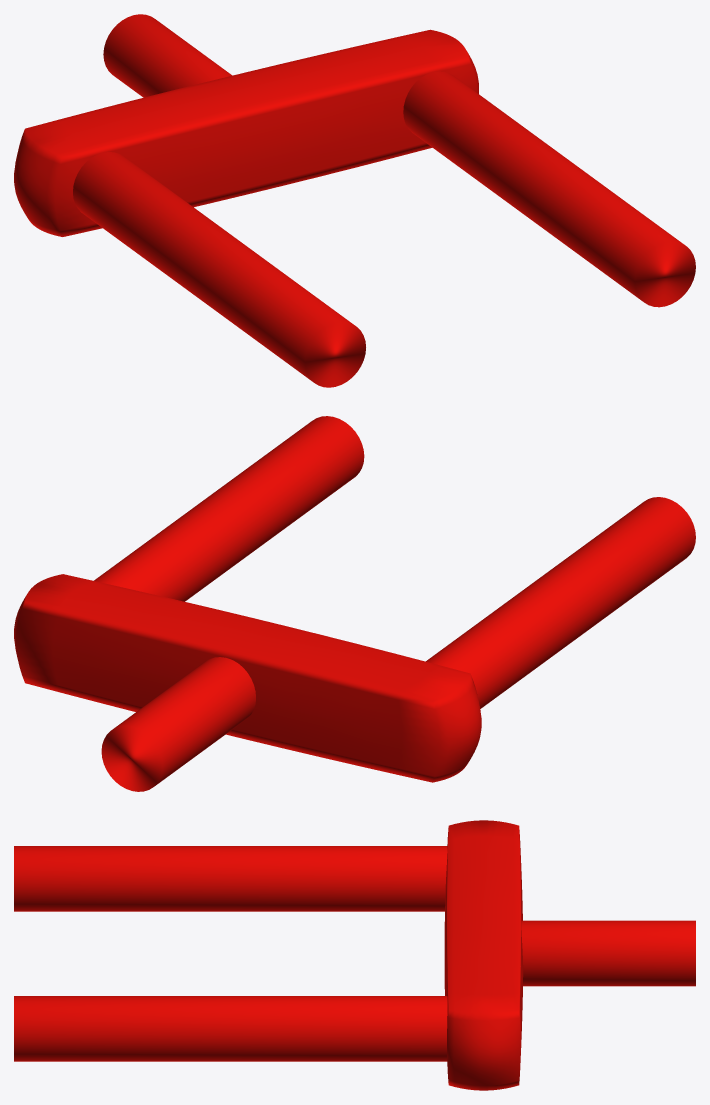
Rendered from pitchfork.fbx.
The picture shows the model from 3 angles, top to bottom: view 1: azimuth 30°, elevation 25°; view 2: azimuth 150°, elevation 25°; view 3: azimuth 270°, elevation 25°; orthographic projection. The views are drawn at different scales.
Visible parts, largest first — view 1: Pitchfork; view 2: Pitchfork; view 3: Pitchfork.
Boxes of the visible parts, x1=… form: Pitchfork: x1=14, y1=14, x2=695, y2=387; Pitchfork: x1=14, y1=416, x2=695, y2=791; Pitchfork: x1=14, y1=820, x2=695, y2=1090.
Bounding box in the file's own units: 411 × 78.44 × 576.
